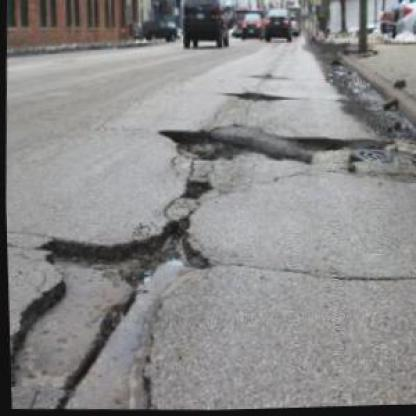pothole: (4, 208, 221, 415), (154, 125, 236, 166), (287, 132, 384, 156), (176, 176, 214, 203), (224, 90, 282, 104)
